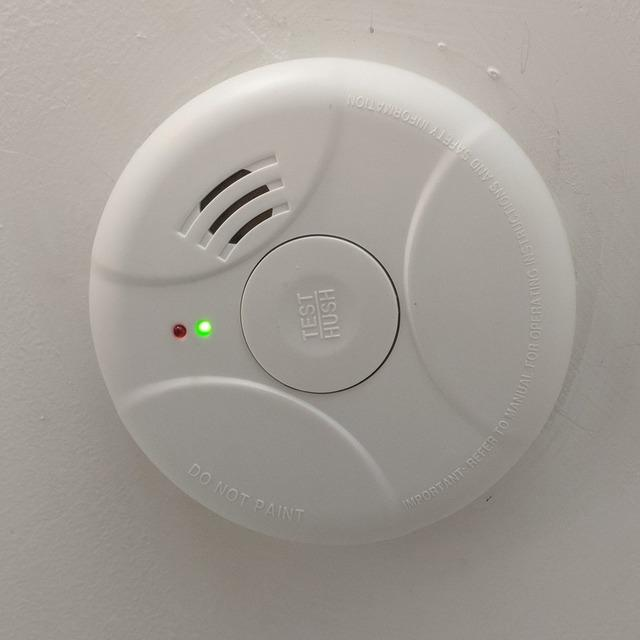Smoke-Detector: (96, 55, 576, 549)
